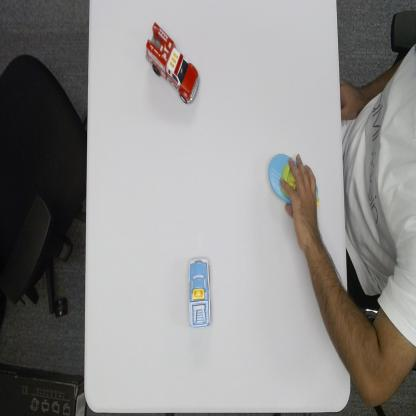Arm: (309, 244, 346, 365)
Boat: (268, 151, 320, 208)
Car: (186, 256, 214, 330)
Firetruck: (145, 20, 200, 106)
Hand: (281, 153, 321, 249)
